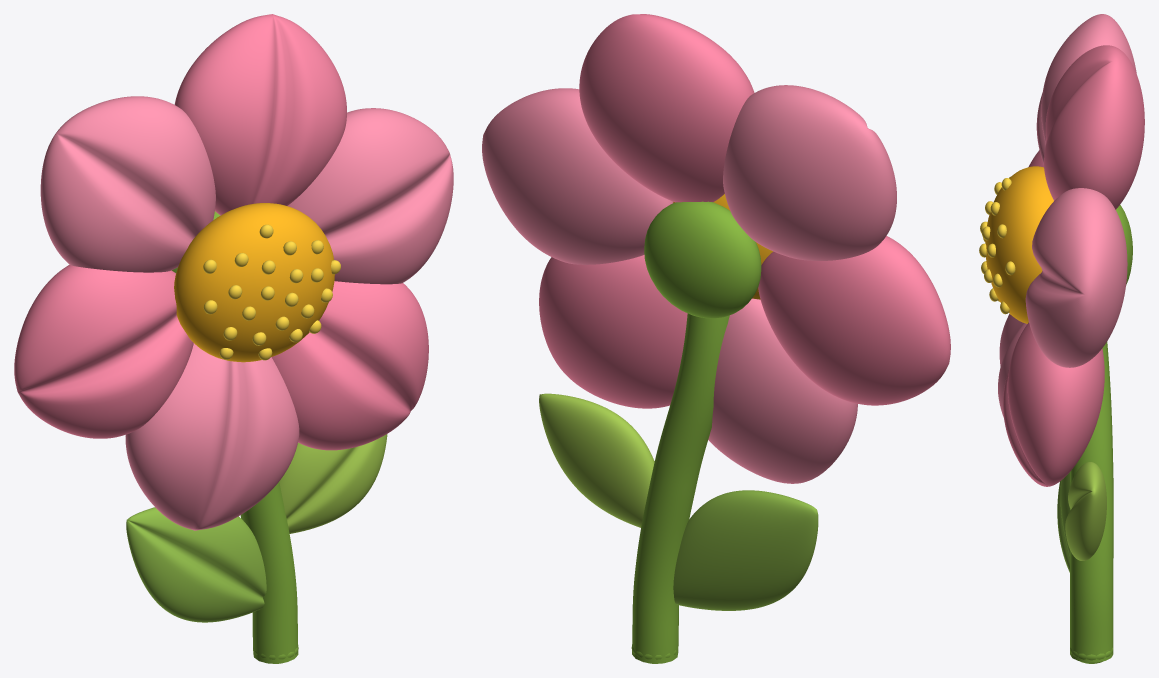
The model's file is PinkFlower_Cartoon.glb.
The picture shows the model from 3 angles, left to right: view 1: azimuth 30°, elevation 25°; view 2: azimuth 150°, elevation 25°; view 3: azimuth 270°, elevation 25°; orthographic projection. The views are drawn at different scales.
Parts seen in each view (by area): view 1: Pink petal 03, Pink petal 04, Pink petal 02, Pink petal 05, Pink petal 01, Pink petal 06, Golden domed center, Left leaf, Right leaf, Curved flower stem; view 2: Pink petal 03, Pink petal 02, Pink petal 04, Pink petal 01, Pink petal 06, Pink petal 05, Curved flower stem, Left leaf, Green calyx, Right leaf; view 3: Pink petal 01, Pink petal 02, Pink petal 06, Curved flower stem, Golden domed center, Right leaf, Pink petal 03, Pink petal 05, Left leaf, Green calyx, Rounded stem foot.
Boxes of the visible parts, x1,y1,x2,y2 form: Pink petal 03: (40,96,215,272); Pink petal 04: (14,265,193,438); Pink petal 02: (174,14,346,215); Pink petal 05: (125,343,299,530); Pink petal 01: (287,108,453,284); Pink petal 06: (271,281,428,450); Golden domed center: (174,203,334,362); Left leaf: (126,507,266,622); Right leaf: (279,434,387,533); Curved flower stem: (240,482,298,663); Pink petal 03: (723,85,896,260); Pink petal 02: (579,14,754,202); Pink petal 04: (758,236,950,405); Pink petal 01: (482,88,673,264); Pink petal 06: (539,255,687,408); Pink petal 05: (708,298,857,483); Curved flower stem: (632,313,729,663); Left leaf: (673,490,818,610); Green calyx: (644,201,761,318); Right leaf: (539,393,654,527); Pink petal 01: (1025,188,1127,367); Pink petal 02: (1044,45,1144,209); Pink petal 06: (1003,322,1104,486); Curved flower stem: (1070,341,1113,662); Golden domed center: (985,166,1053,323); Right leaf: (1065,462,1106,560); Pink petal 03: (1036,14,1136,164); Pink petal 05: (998,313,1027,417); Left leaf: (1057,472,1070,572); Green calyx: (1116,205,1132,285); Rounded stem foot: (1070,647,1113,663).
Bounding box in the file's own units: 2.36 × 3.23 × 0.8019.
